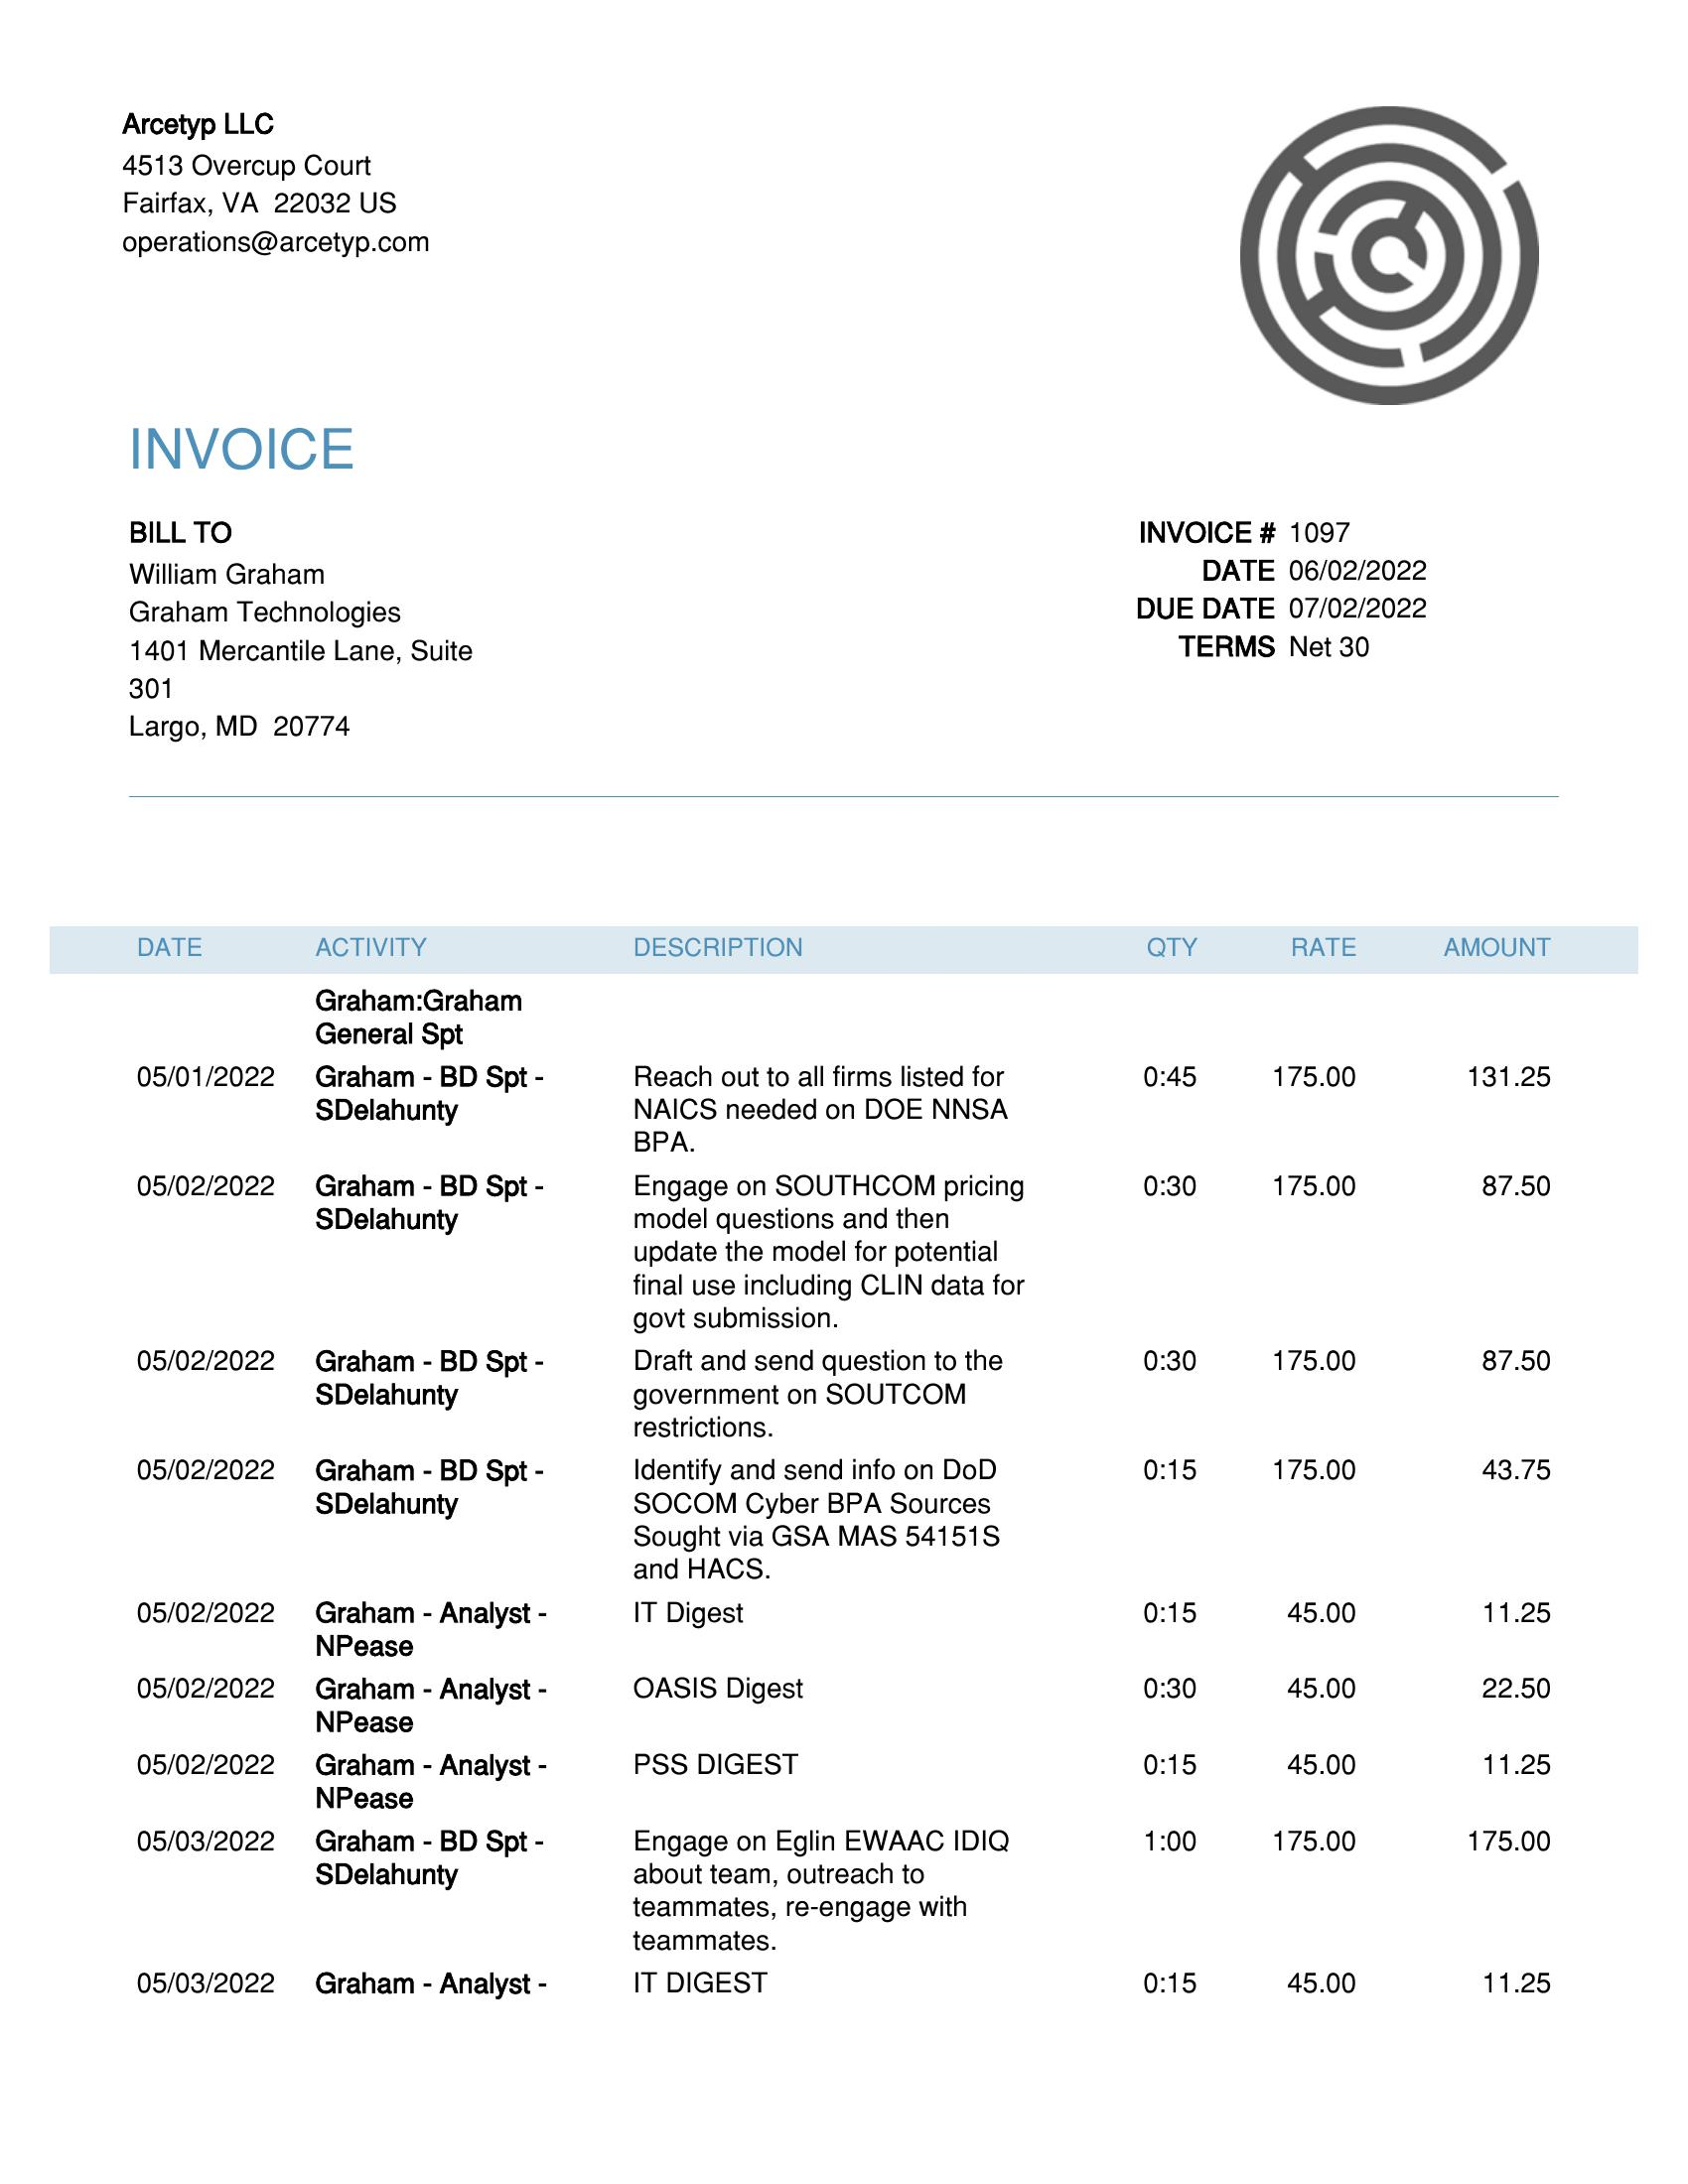table: (43, 906, 1654, 2047)
